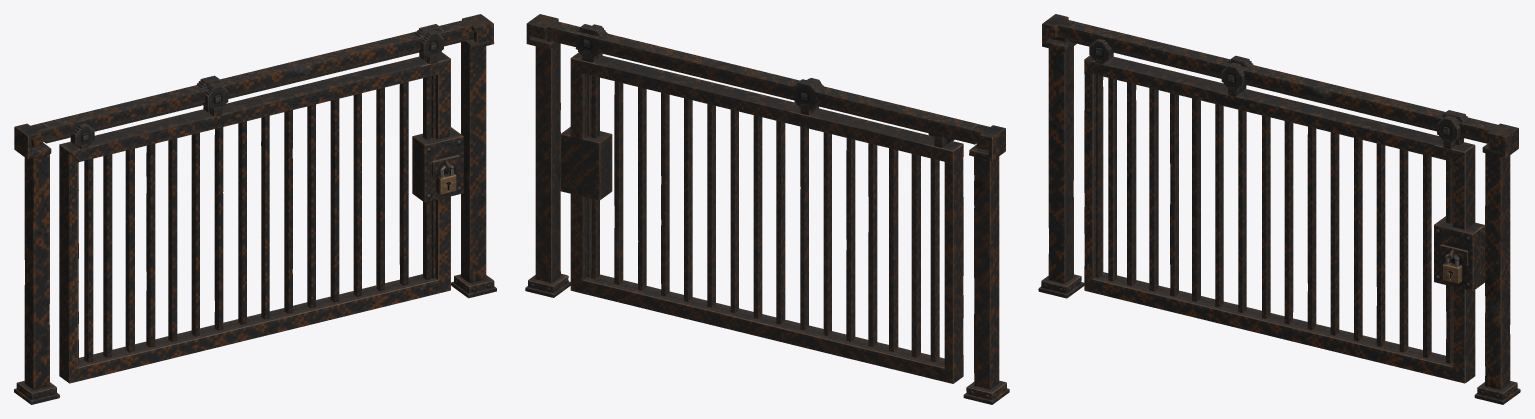
File: Meshy_AI_model.glb
3 views of the same model, side by side, from view 1: azimuth 30°, elevation 25°; view 2: azimuth 150°, elevation 25°; view 3: azimuth 330°, elevation 25° (orthographic).
Size of the model in its own units: 1.9 by 1.06 by 0.1439.
Materials: 1 (1 with a texture image).
